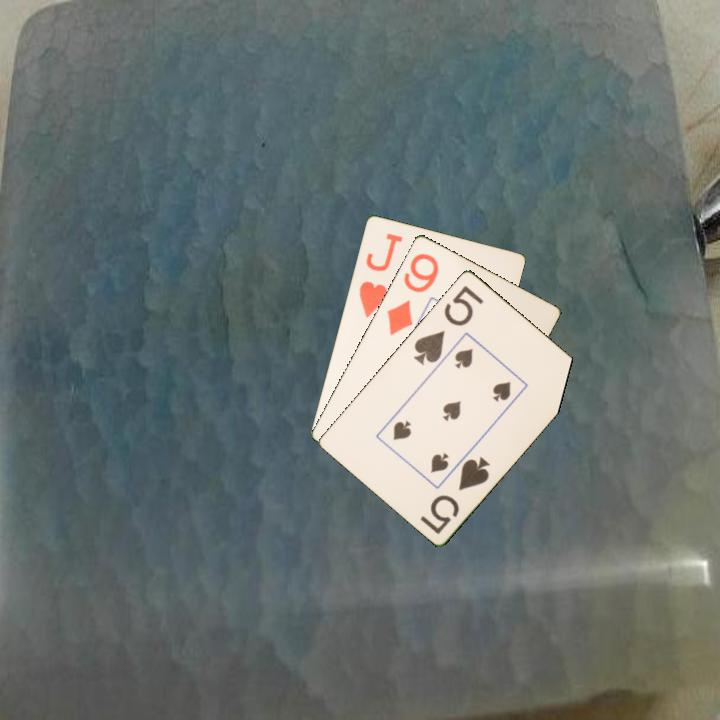5s: (410, 281, 487, 367), (417, 453, 493, 537)
9d: (383, 249, 442, 338)
Jh: (355, 229, 405, 321)
